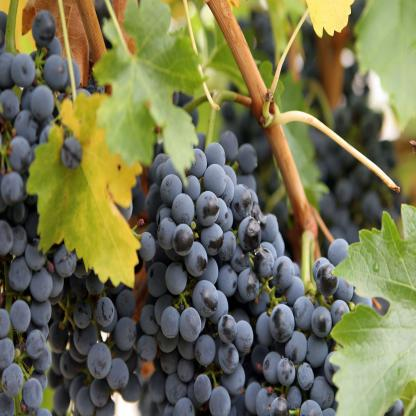--: (131, 130, 374, 416), (0, 22, 113, 402)
